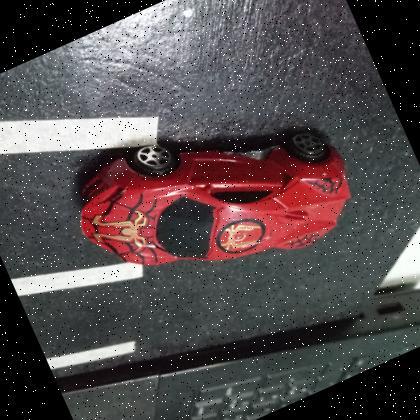Car: (79, 126, 351, 265)
